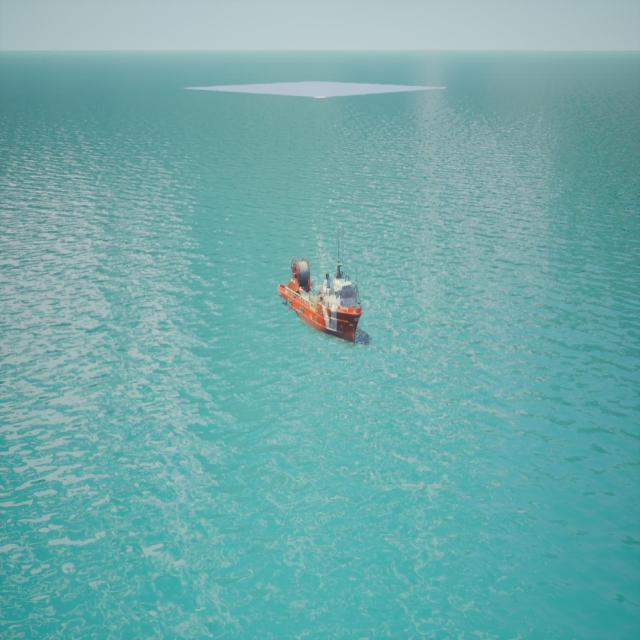tug boat: (279, 273, 368, 345)
